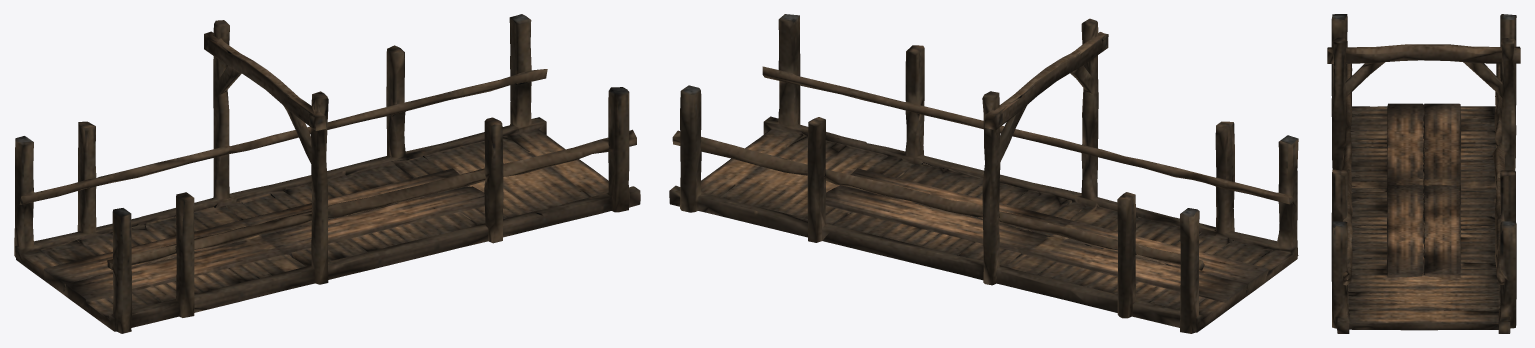
The model's file is bridge.glb.
3 views of the same model, side by side, from view 1: azimuth 30°, elevation 25°; view 2: azimuth 150°, elevation 25°; view 3: azimuth 270°, elevation 25° (orthographic). The views are drawn at different scales.
Visible parts, largest first — view 1: Mesh_0.001; view 2: Mesh_0.001; view 3: Mesh_0.001.
Boxes of the visible parts, x1,y1,x2,y2 form: Mesh_0.001: [14, 14, 640, 333]; Mesh_0.001: [669, 14, 1298, 333]; Mesh_0.001: [1327, 14, 1520, 333].
Size of the model in its own units: 1.9 by 0.6469 by 0.7068.
1 material, 1 textured.
